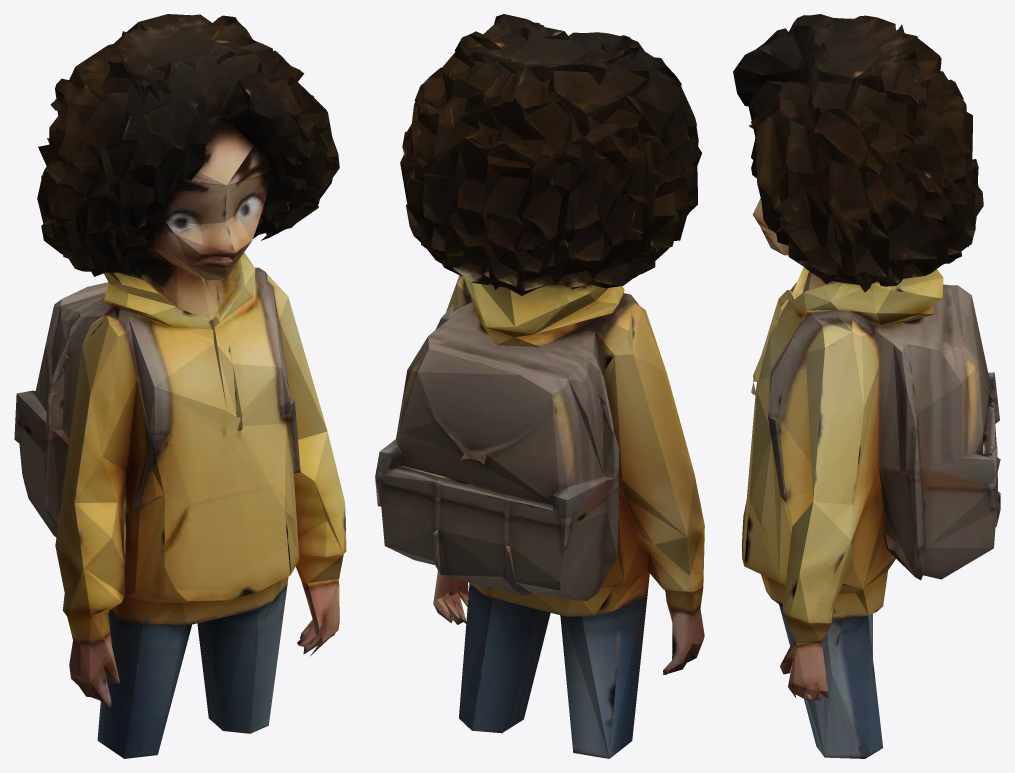
File: citizen-a.glb
The picture shows the model from 3 angles, left to right: view 1: azimuth 30°, elevation 25°; view 2: azimuth 150°, elevation 25°; view 3: azimuth 270°, elevation 25°; orthographic projection. The views are drawn at different scales.
Parts seen in each view (by area): view 1: geometry_0; view 2: geometry_0; view 3: geometry_0.
Boxes of the visible parts, x1,y1,x2,y2 form: geometry_0: [14, 14, 346, 758]; geometry_0: [375, 14, 704, 758]; geometry_0: [733, 14, 1000, 758].
Size of the model in its own units: 0.4151 by 0.9987 by 0.3555.
Materials: 1 (1 with a texture image).
